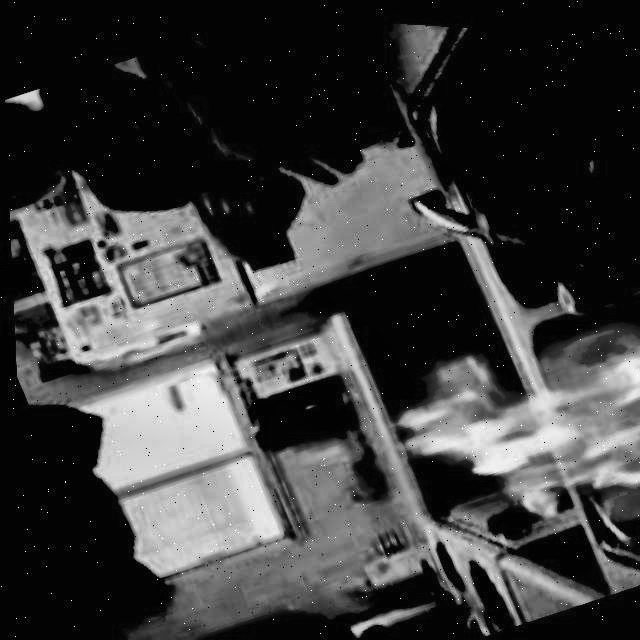Fire: (370, 277, 640, 560)
